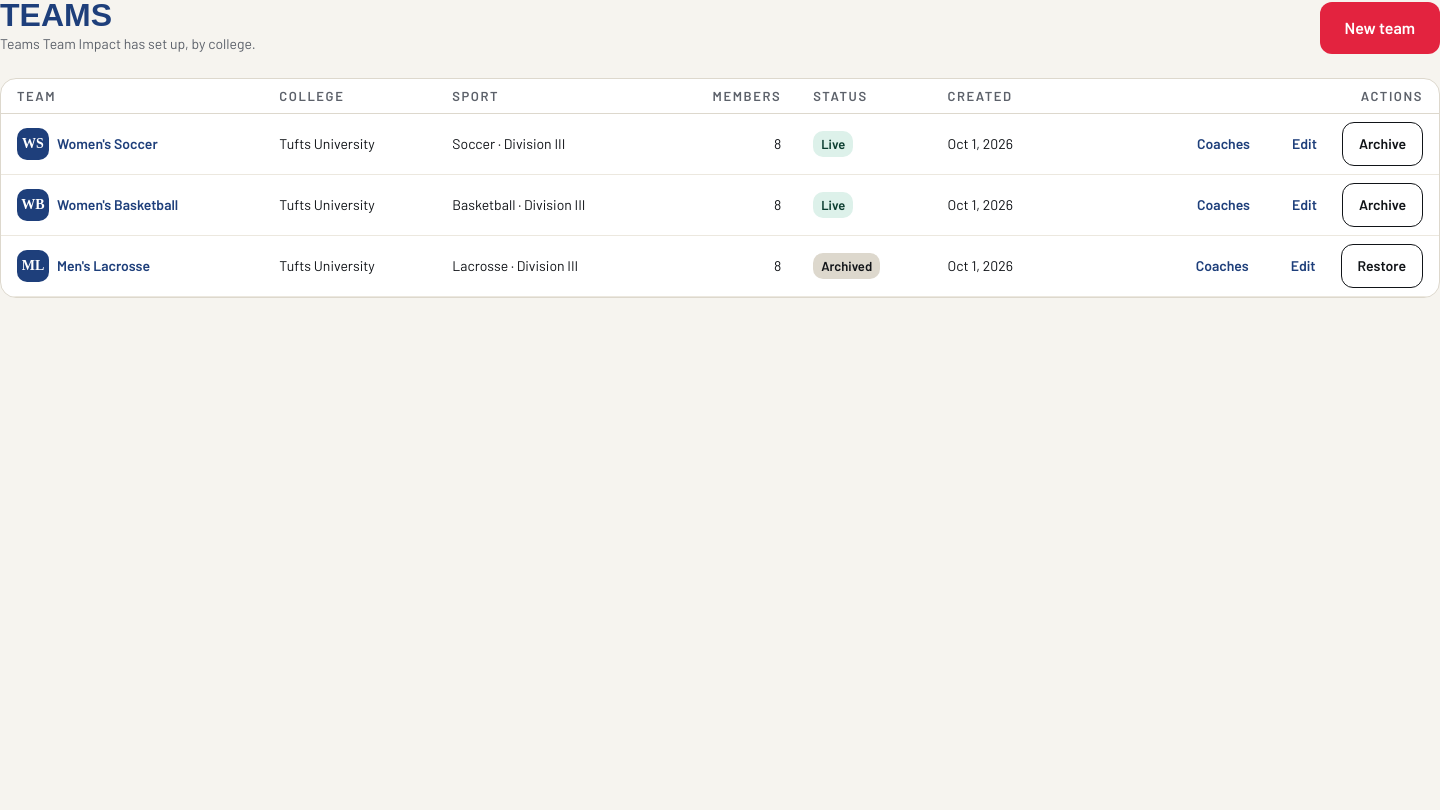
Test case: staff teams page: coaches and invites › shows when each invite was sent, by whom, and when it expires
The image size is (1440, 810).
Click the button with aria-label "Coaches of Women's Soccer" at (1224, 144), box [1180,122,1267,166]
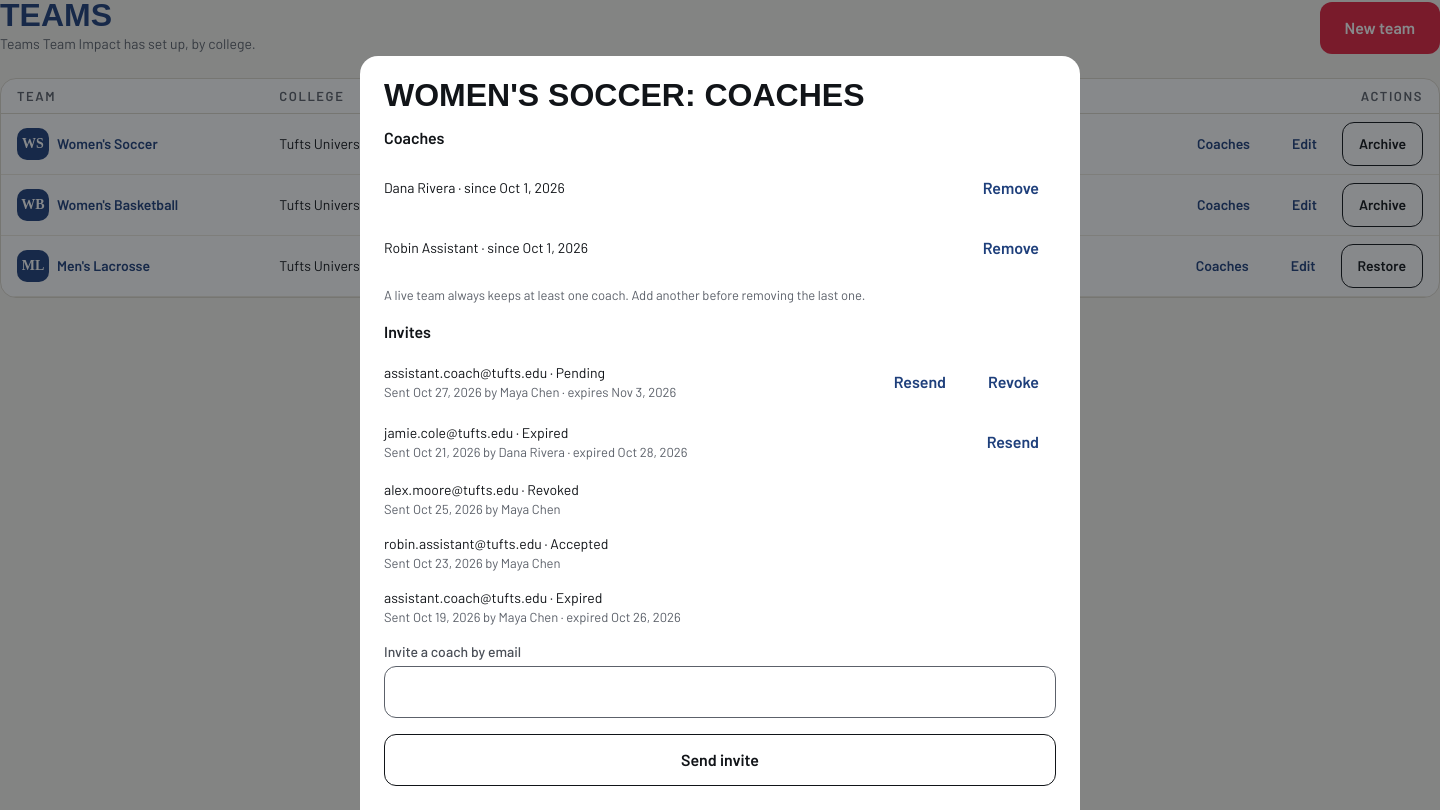
Expected: the button with aria-label "Remove Dana Rivera as a coach" is shown, [966,166,1056,210]
Expected: the text "Robin Assistant · since Oct 1, 2026" is shown, [384,239,588,256]
Expected: the text "assistant.coach@tufts.edu · Pending" is shown, [384,364,605,381]
